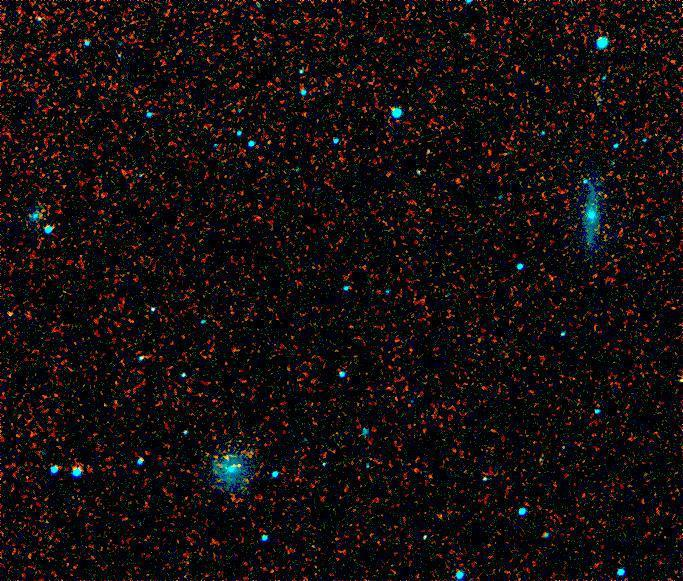star: (0, 301, 26, 331)
